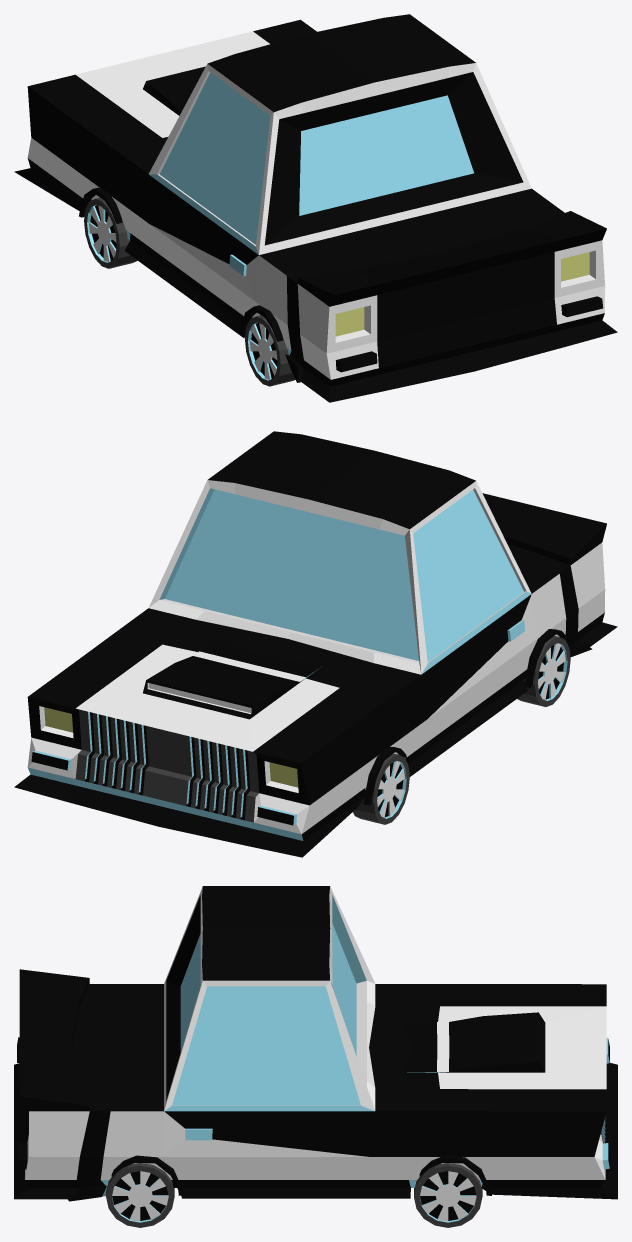
The model's file is car_black.fbx.
3 views of the same model, one above another, from view 1: azimuth 30°, elevation 25°; view 2: azimuth 150°, elevation 25°; view 3: azimuth 270°, elevation 25° (orthographic). The views are drawn at different scales.
Visible parts, largest first — view 1: car; view 2: car; view 3: car.
Boxes of the visible parts, x1,y1,x2,y2 form: car: [14, 14, 617, 402]; car: [14, 431, 617, 857]; car: [14, 886, 617, 1227].
Size of the model in its own units: 143 by 112 by 264.
